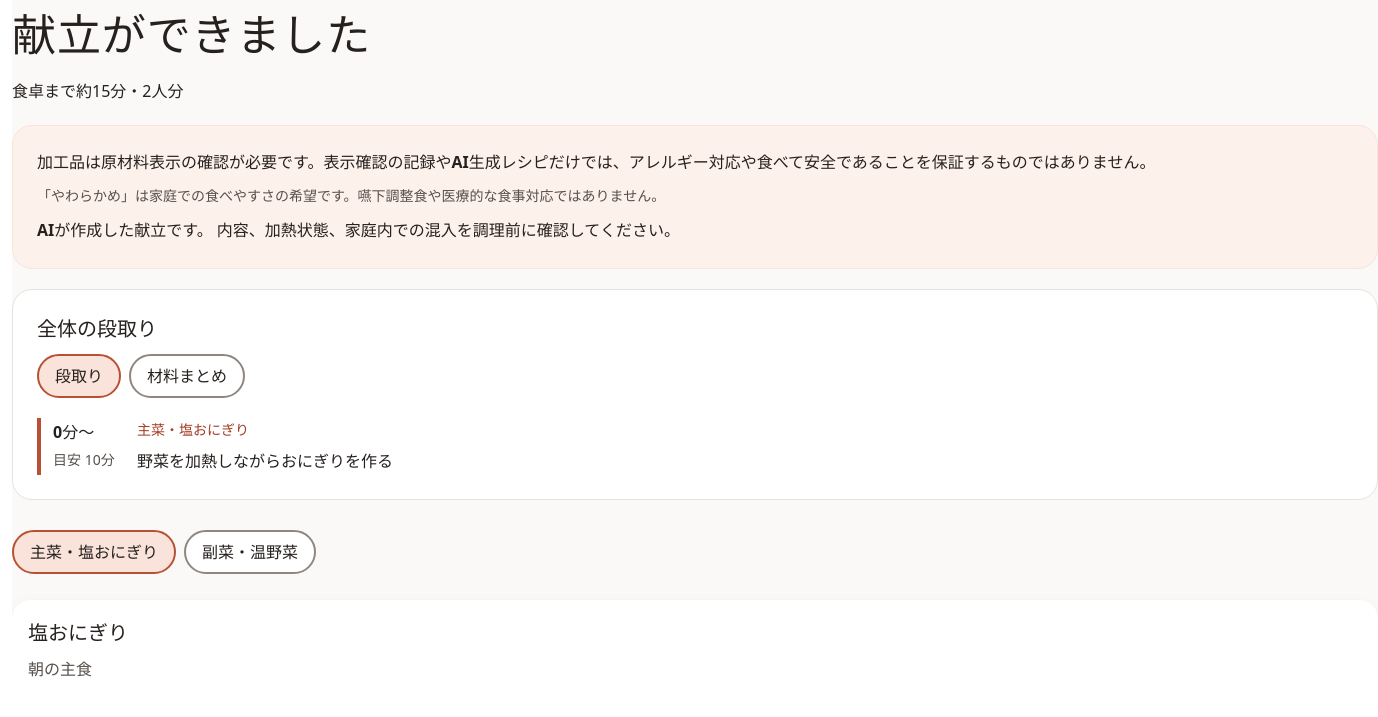
Scenario: shows a plain empty state when the selected dish has no adaptation
Step 1. Click the tab "副菜・温野菜" → point(250, 552), box [184,530,316,574]
(page scrolled)
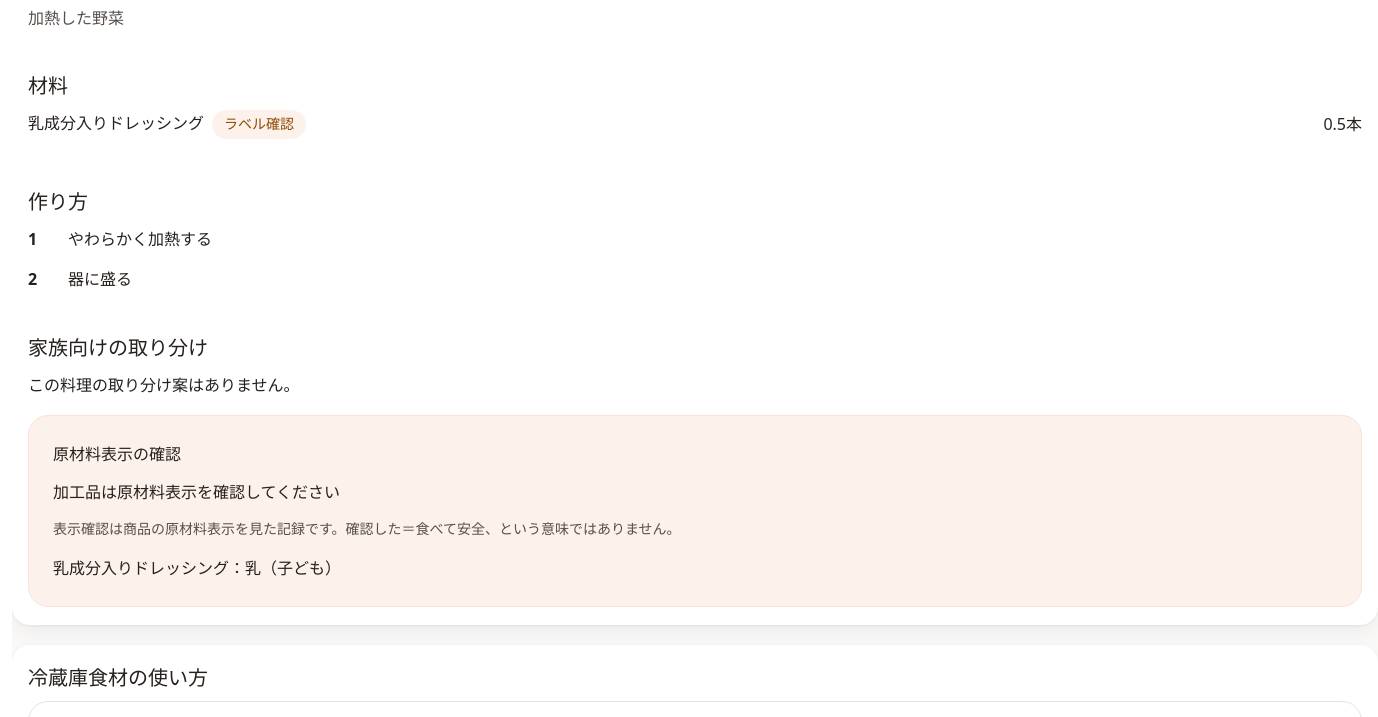
Check: the text "この料理の取り分け案はありません。" is shown, box [28,374,300,396]
